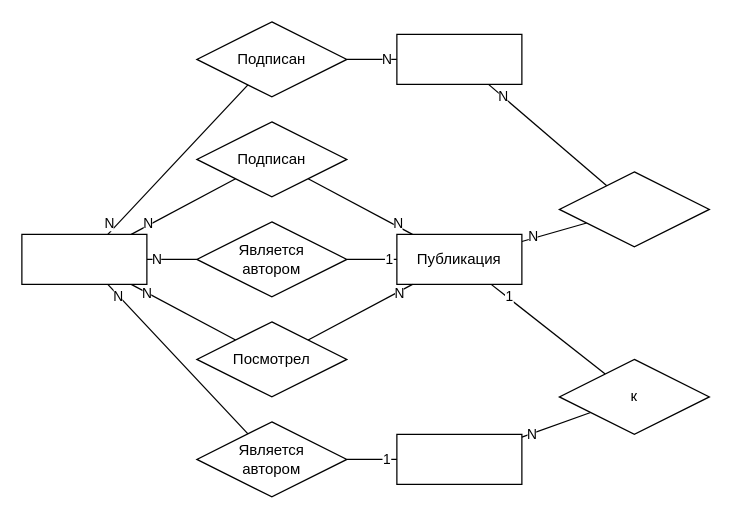
Some shapes in this 731 by 519 pixel diagram are drawn without their labels. Here are the shapes that lost their labels. From the top down, the box of each, then its label:
(396, 33, 522, 84): Тэг
(558, 171, 709, 247): Имеет
(21, 233, 147, 284): Пользователь
(396, 433, 522, 484): Комментарий
